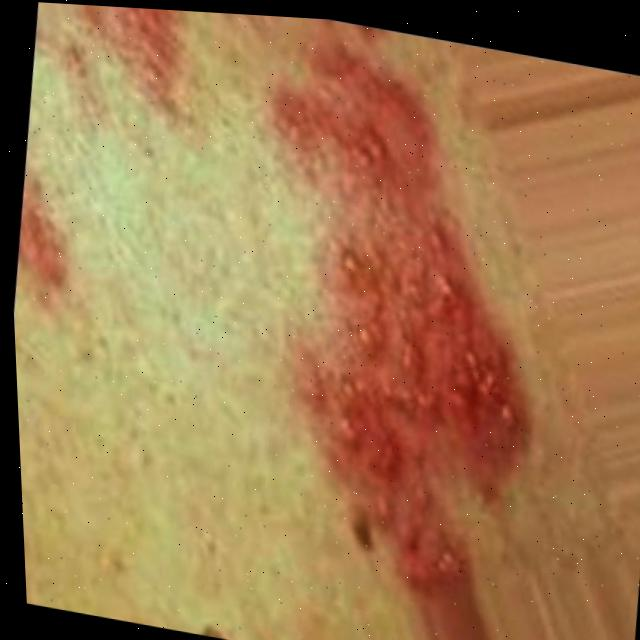Shingles: (196, 37, 593, 621), (1, 0, 203, 336)
